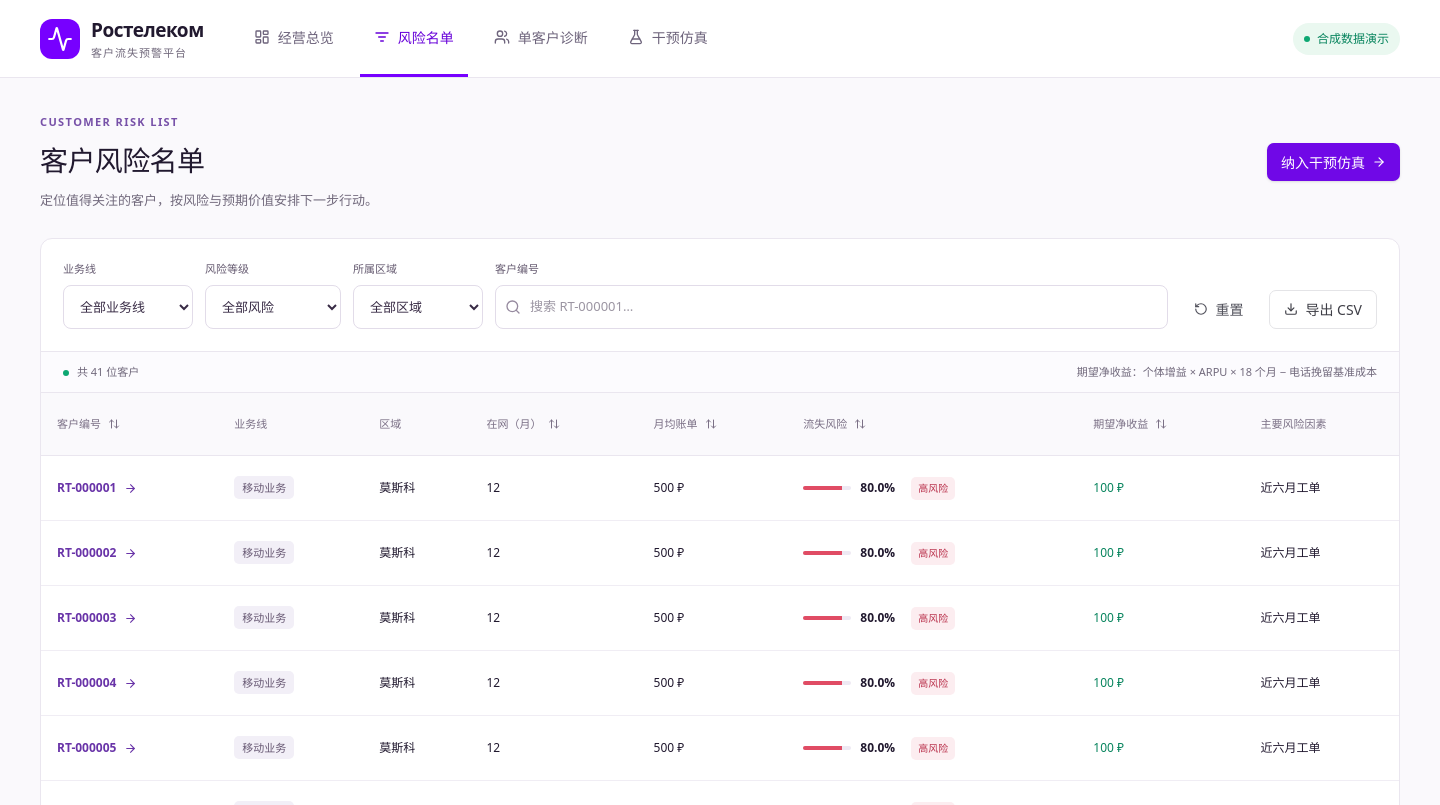
Test: risk list › shows an export error and re-enables the export button
Expected: the link "RT-000001" is shown, top-left (57, 479), bottom-right (137, 496)
Click the button "导出 CSV" at (1323, 309), box top-left (1269, 290), bottom-right (1377, 328)
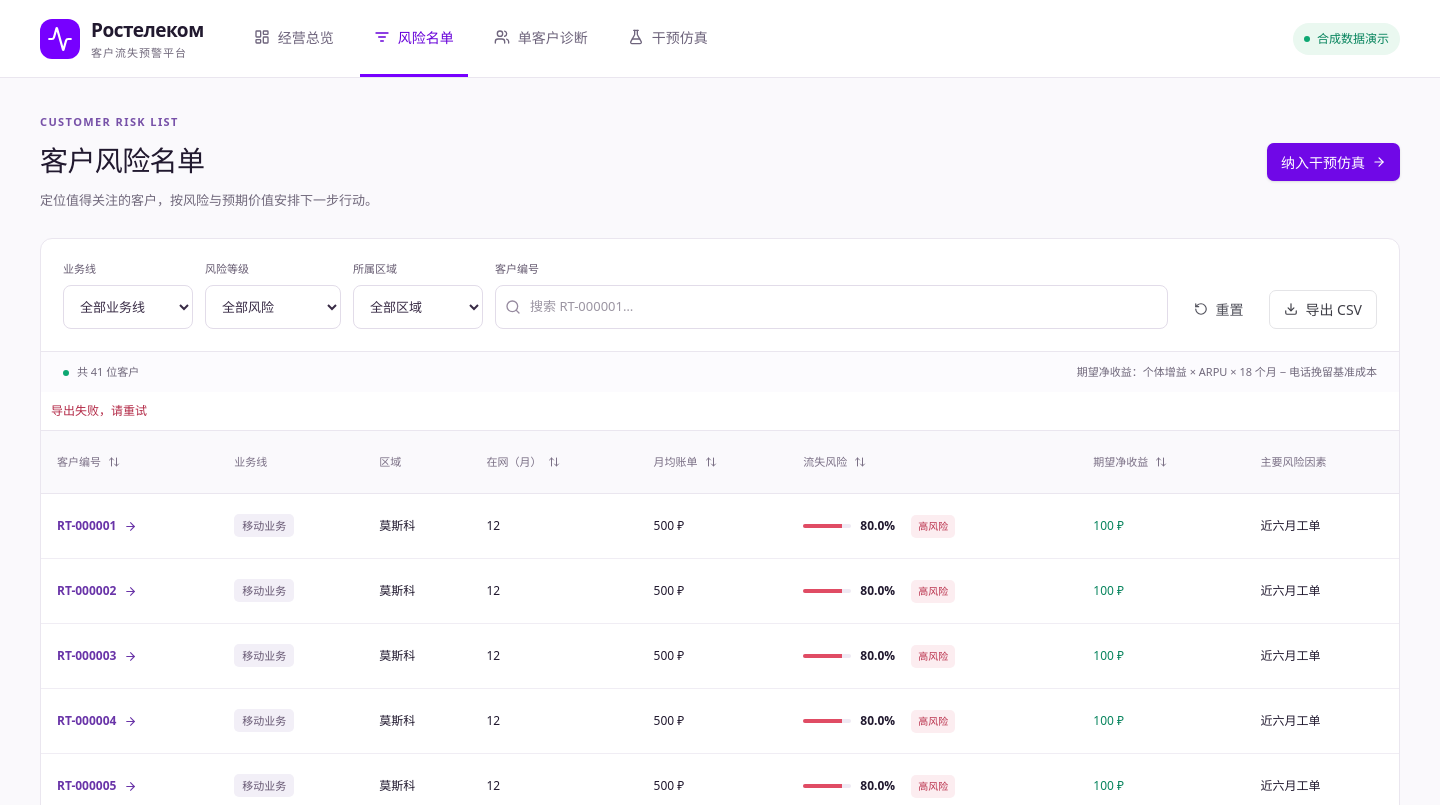
Result: the message reads "导出失败，请重试" at top-left (51, 402), bottom-right (147, 419)
